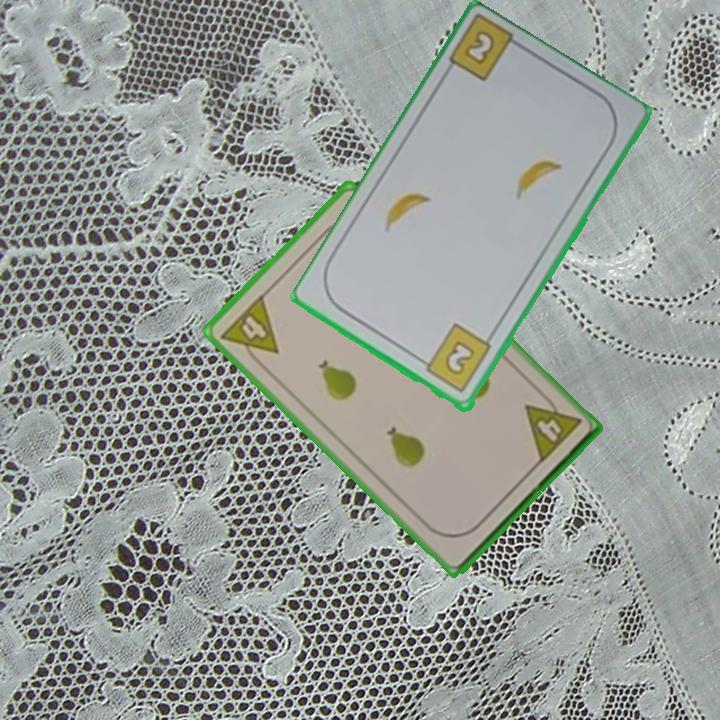2b: (416, 321, 495, 397), (460, 27, 498, 69)
4p: (216, 290, 282, 371), (520, 388, 584, 467)
